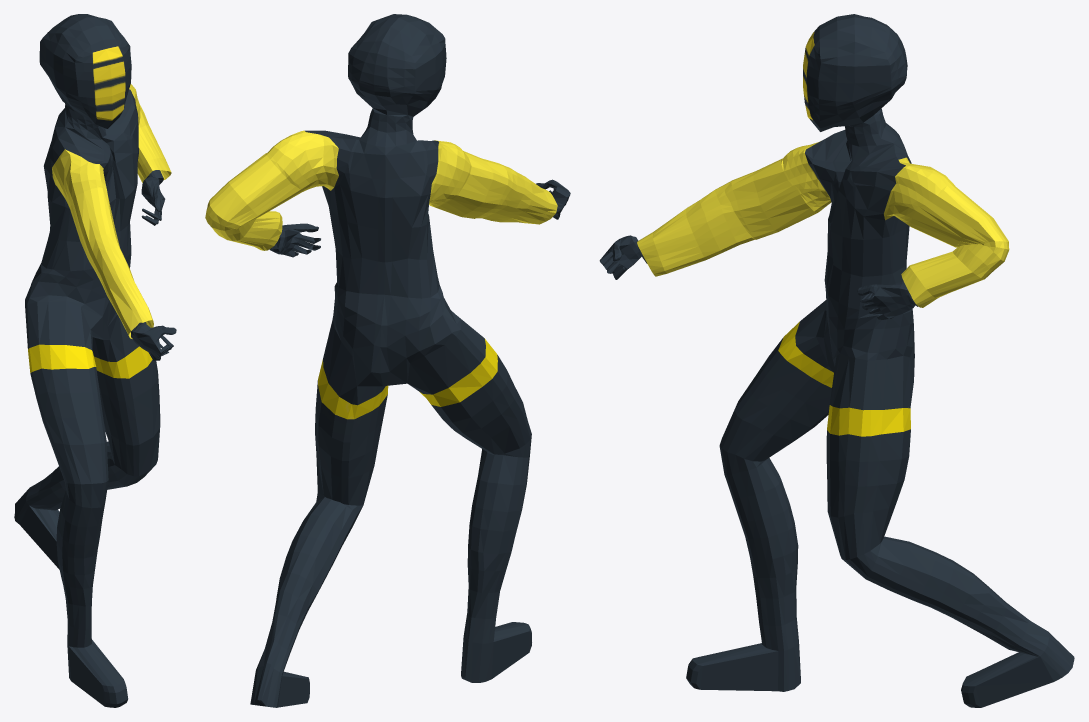
Rendered from Sentry_WF_000005.obj.
The picture shows the model from 3 angles, left to right: view 1: azimuth 30°, elevation 25°; view 2: azimuth 150°, elevation 25°; view 3: azimuth 270°, elevation 25°; orthographic projection. The views are drawn at different scales.
Visible parts, largest first — view 1: Cube; view 2: Cube; view 3: Cube.
Part boxes in pixels (x1=…): Cube: x1=14, y1=14, x2=176, y2=707; Cube: x1=205, y1=14, x2=570, y2=707; Cube: x1=599, y1=14, x2=1074, y2=707.
Size of the model in its own units: 1.17 by 3.69 by 2.3.
